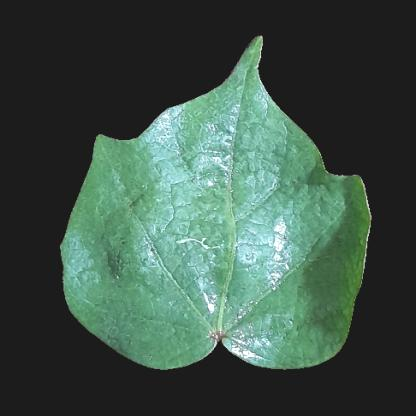healthy: (138, 149, 321, 309)
